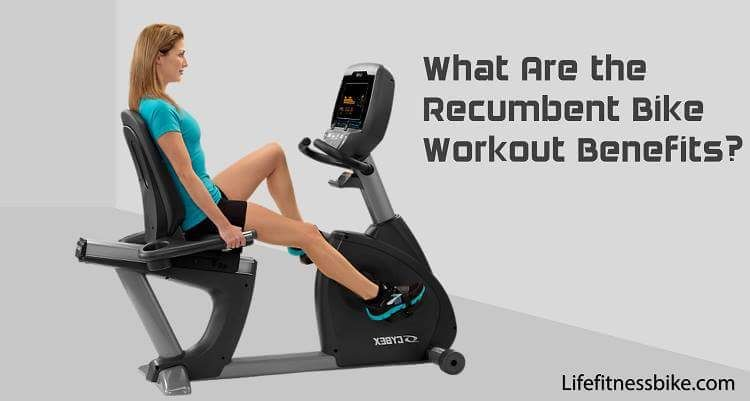gym_bike: (82, 81, 468, 398)
